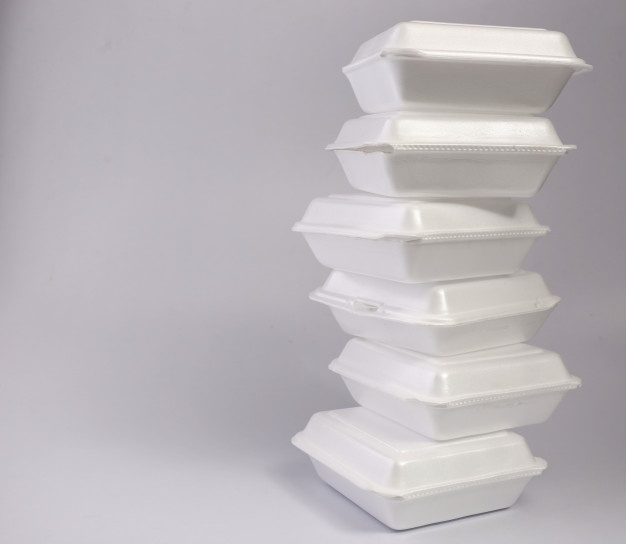Foam Box: (284, 18, 593, 536)
